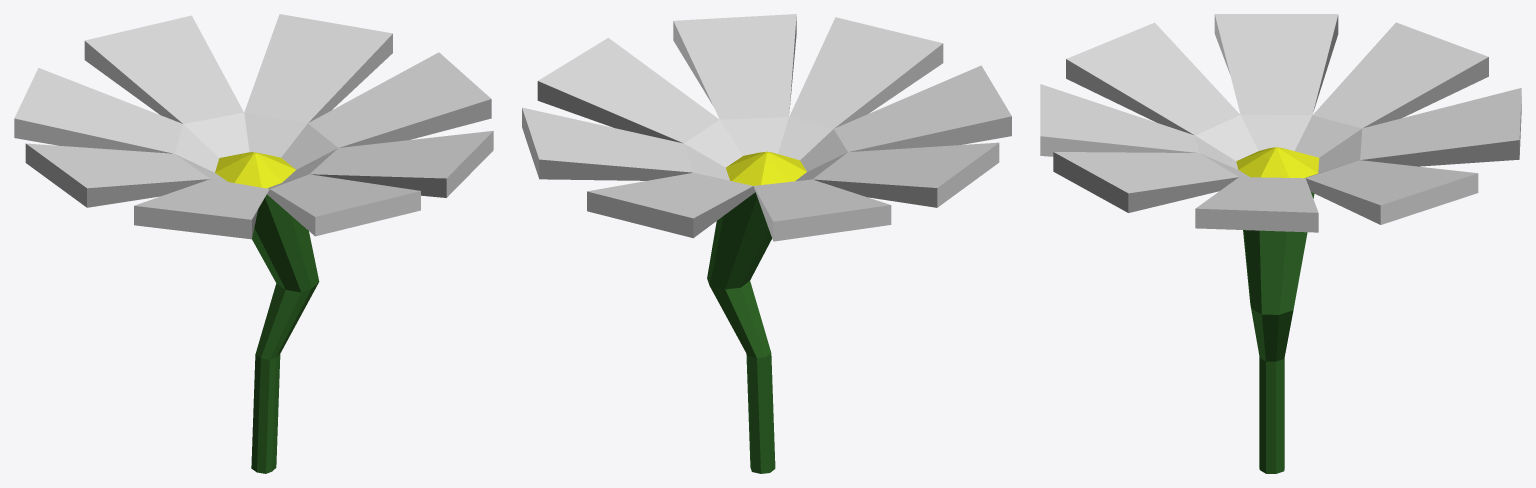
Rendered from white_flower.fbx.
3 views of the same model, side by side, from view 1: azimuth 30°, elevation 25°; view 2: azimuth 150°, elevation 25°; view 3: azimuth 270°, elevation 25° (orthographic).
Parts seen in each view (by area): view 1: Cube.007; view 2: Cube.007; view 3: Cube.007.
Boxes of the visible parts, bbox=[...] form: Cube.007: bbox=[14, 14, 493, 473]; Cube.007: bbox=[522, 14, 1011, 473]; Cube.007: bbox=[1040, 14, 1521, 473].
Size of the model in its own units: 0.3343 by 0.2778 by 0.3422.
